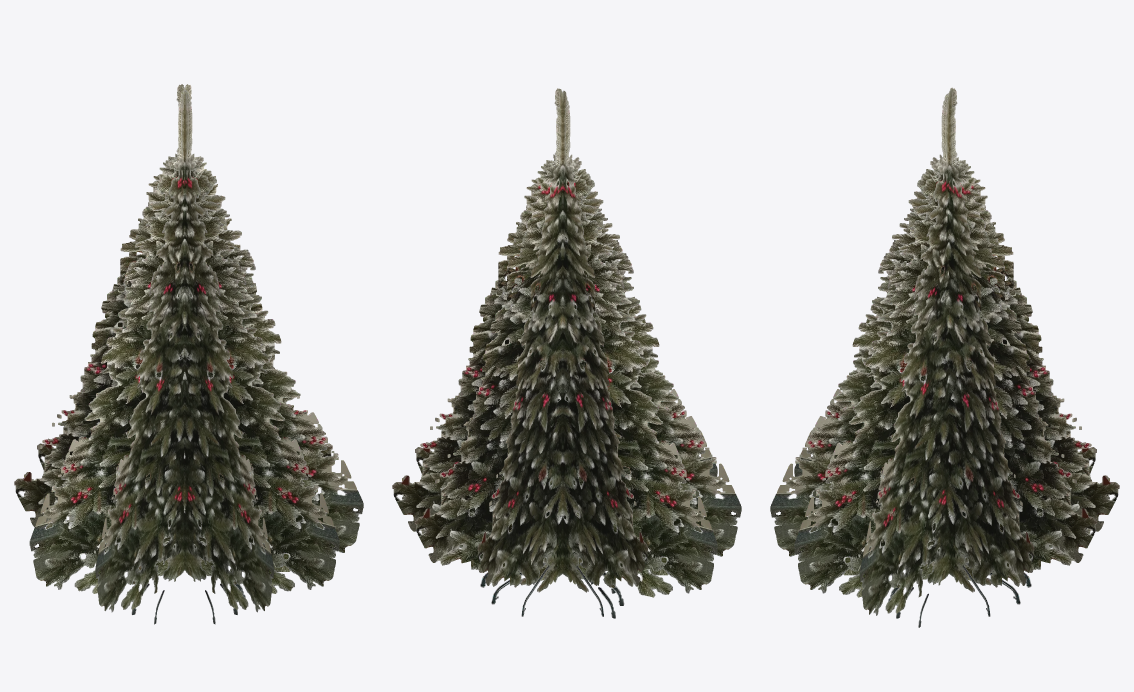
Rendered from frasin-220-p6.glb.
3 views of the same model, side by side, from view 1: azimuth 30°, elevation 25°; view 2: azimuth 150°, elevation 25°; view 3: azimuth 270°, elevation 25° (orthographic).
Parts seen in each view (by area): view 1: brad; view 2: brad; view 3: brad.
Part boxes in pixels (left/top/right/bottom): brad: left=14, top=84, right=363, bottom=624; brad: left=392, top=88, right=741, bottom=618; brad: left=770, top=87, right=1119, bottom=627.
Bounding box in the file's own units: 1.35 × 2.2 × 1.35.
1 material, 1 textured.
